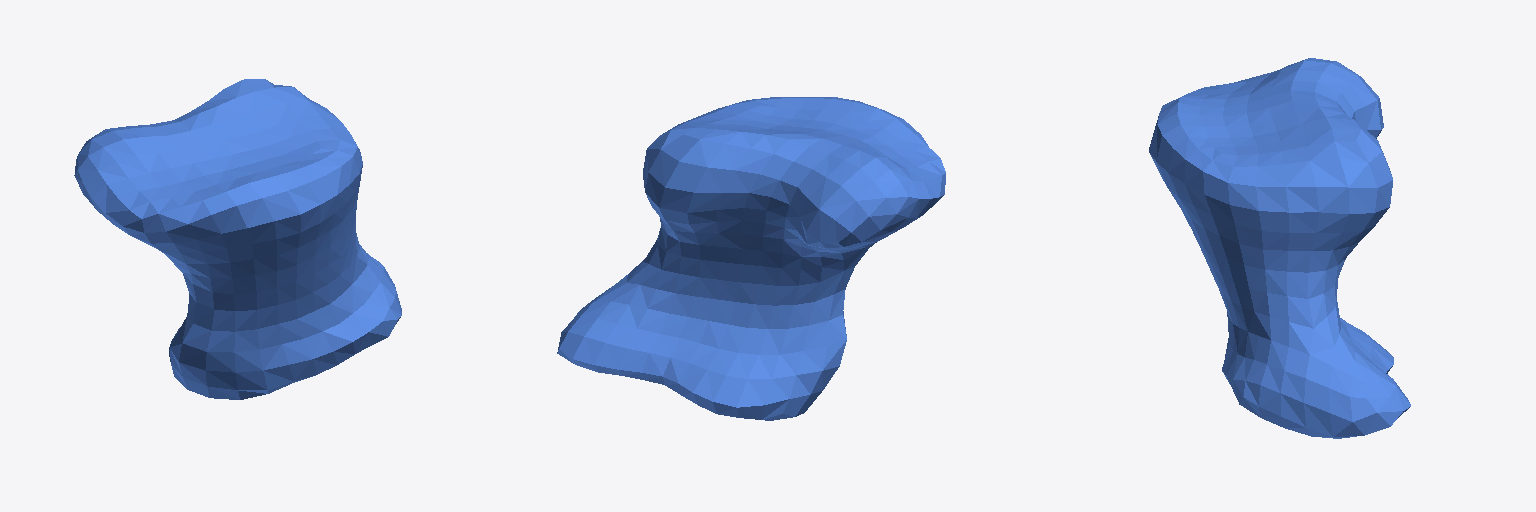
Rendered from MiddlePhalanx_1.obj.
3 views of the same model, side by side, from view 1: azimuth 30°, elevation 25°; view 2: azimuth 150°, elevation 25°; view 3: azimuth 270°, elevation 25° (orthographic).
Parts seen in each view (by area): view 1: Object_0MiddlePhalanx_1; view 2: Object_0MiddlePhalanx_1; view 3: Object_0MiddlePhalanx_1.
Part boxes in pixels (x1,y1,x2,y2): Object_0MiddlePhalanx_1: (74,79,401,399); Object_0MiddlePhalanx_1: (557,97,945,420); Object_0MiddlePhalanx_1: (1149,58,1410,438).
Bounding box in the file's own units: 14.04 × 11.5 × 9.78.